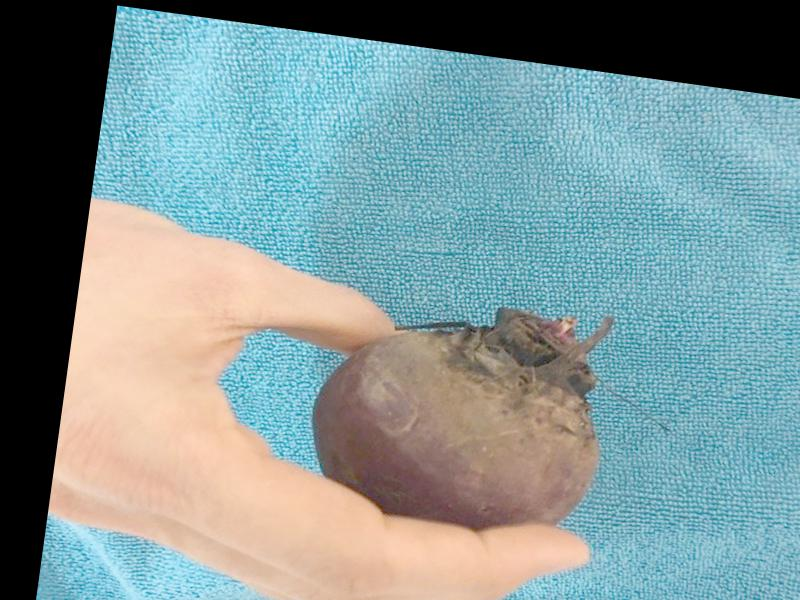Beet: (303, 279, 616, 543)
